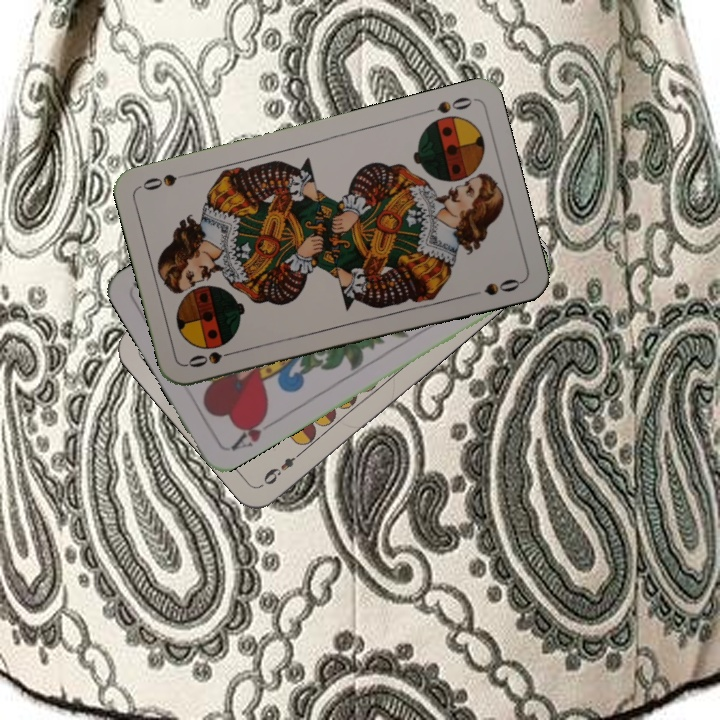E9: (259, 446, 307, 488)
HA: (226, 408, 271, 454)
SO: (183, 346, 242, 370), (418, 93, 475, 117)
